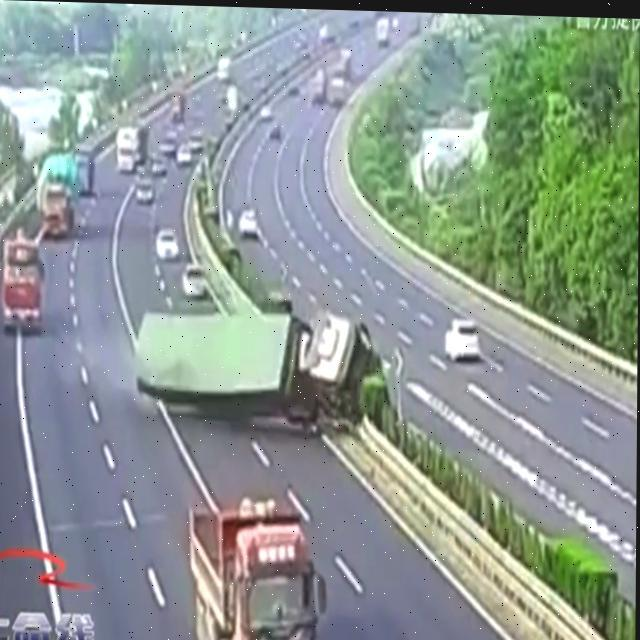normal: (179, 496, 332, 640), (0, 236, 55, 343), (29, 143, 89, 241), (432, 312, 512, 382)
single accident: (123, 306, 398, 448)
